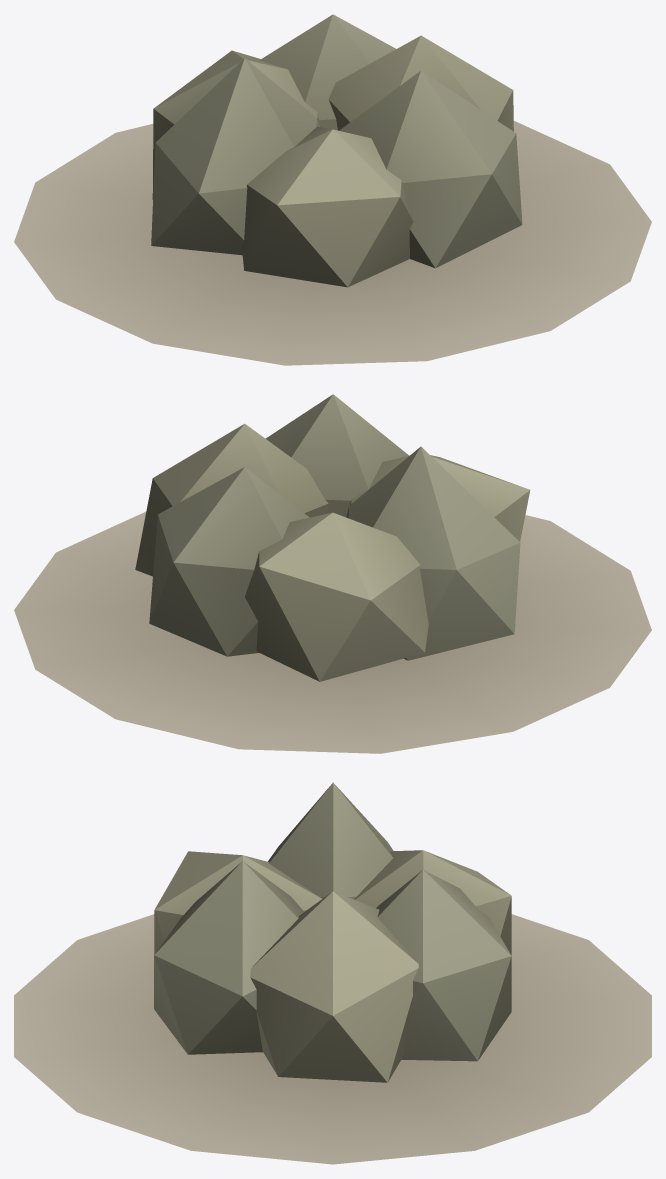
File: scrub.glb
3 views of the same model, one above another, from view 1: azimuth 30°, elevation 25°; view 2: azimuth 150°, elevation 25°; view 3: azimuth 270°, elevation 25° (orthographic). The views are drawn at different scales.
Visible parts, largest first — view 1: scrub; view 2: scrub; view 3: scrub.
Part boxes in pixels (<box>): scrub: <box>14,14,651,365</box>; scrub: <box>14,394,651,753</box>; scrub: <box>14,782,651,1164</box>.
Size of the model in its own units: 2.2 by 0.7413 by 2.14.
